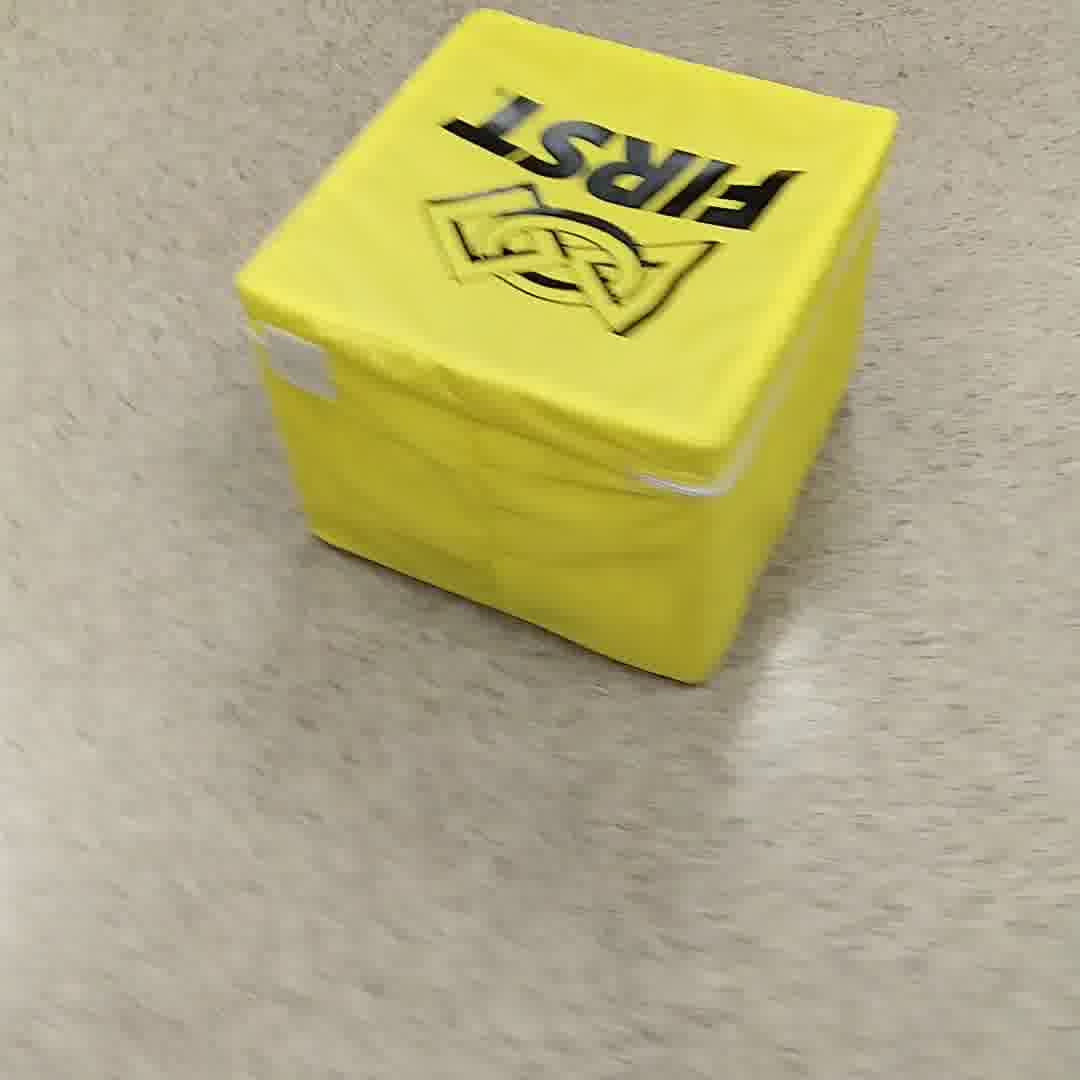box: (211, 8, 916, 703)
